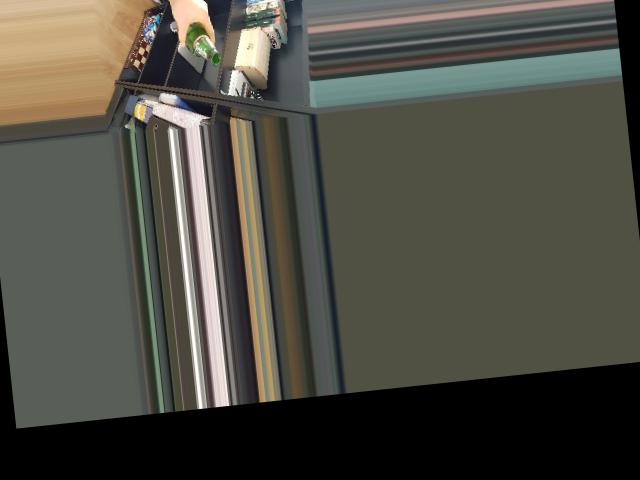beer: (175, 16, 221, 69)
